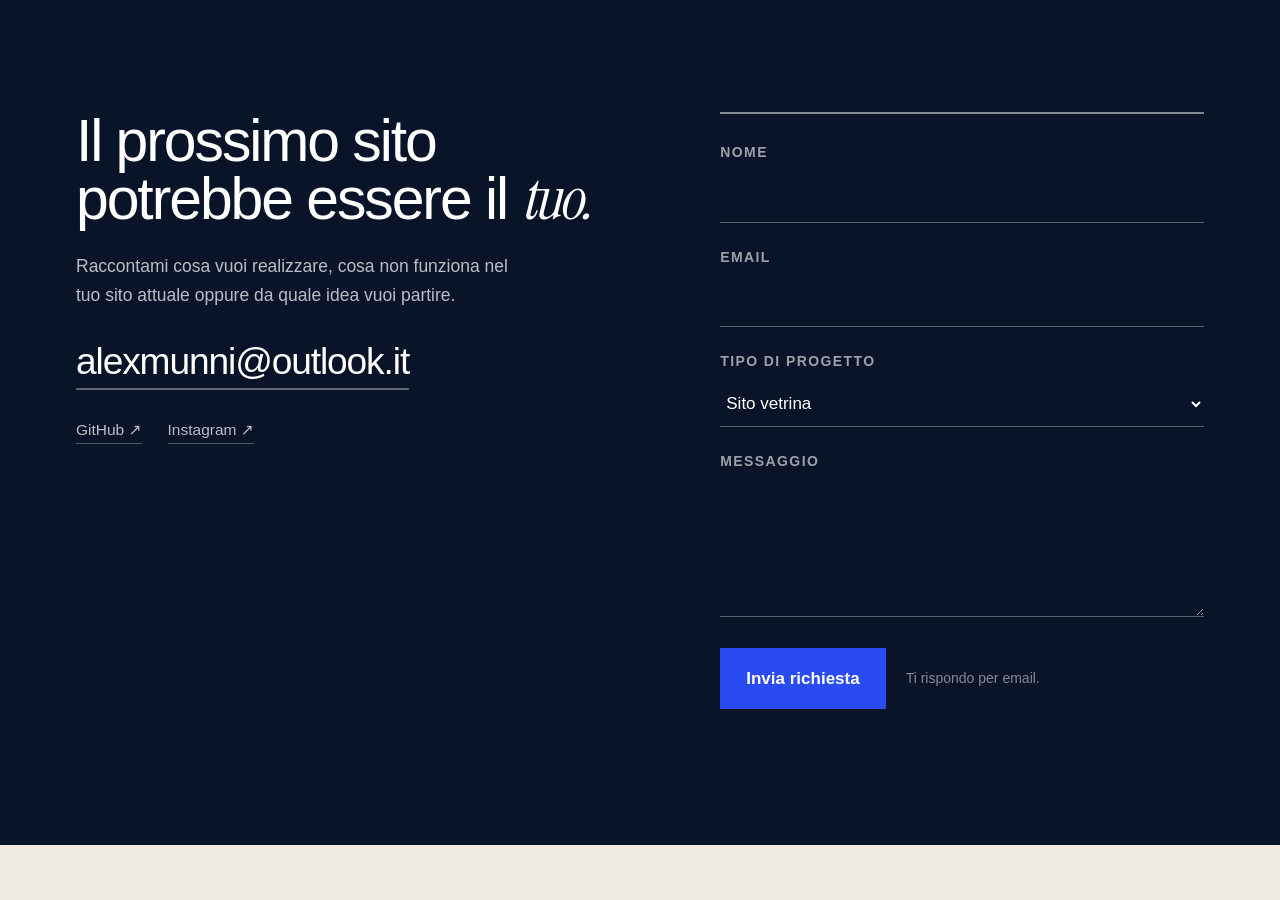
Contact › shows a success message after a successful submission
In the field labelled "Nome": (962, 197) [720,172,1204,222], type "Jane Doe"
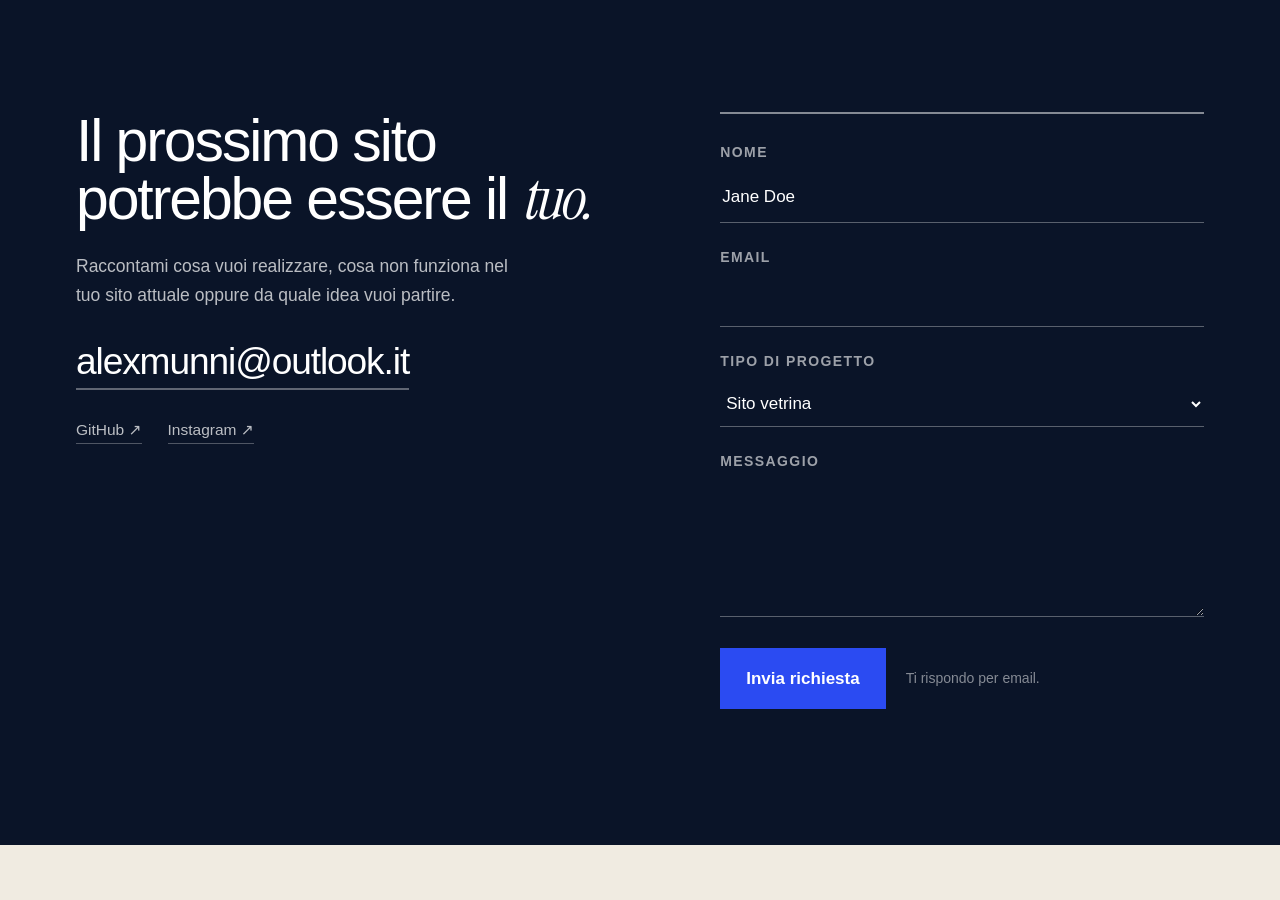
In the field labelled "Email": (962, 302) [720,276,1204,327], type "jane@example.com"
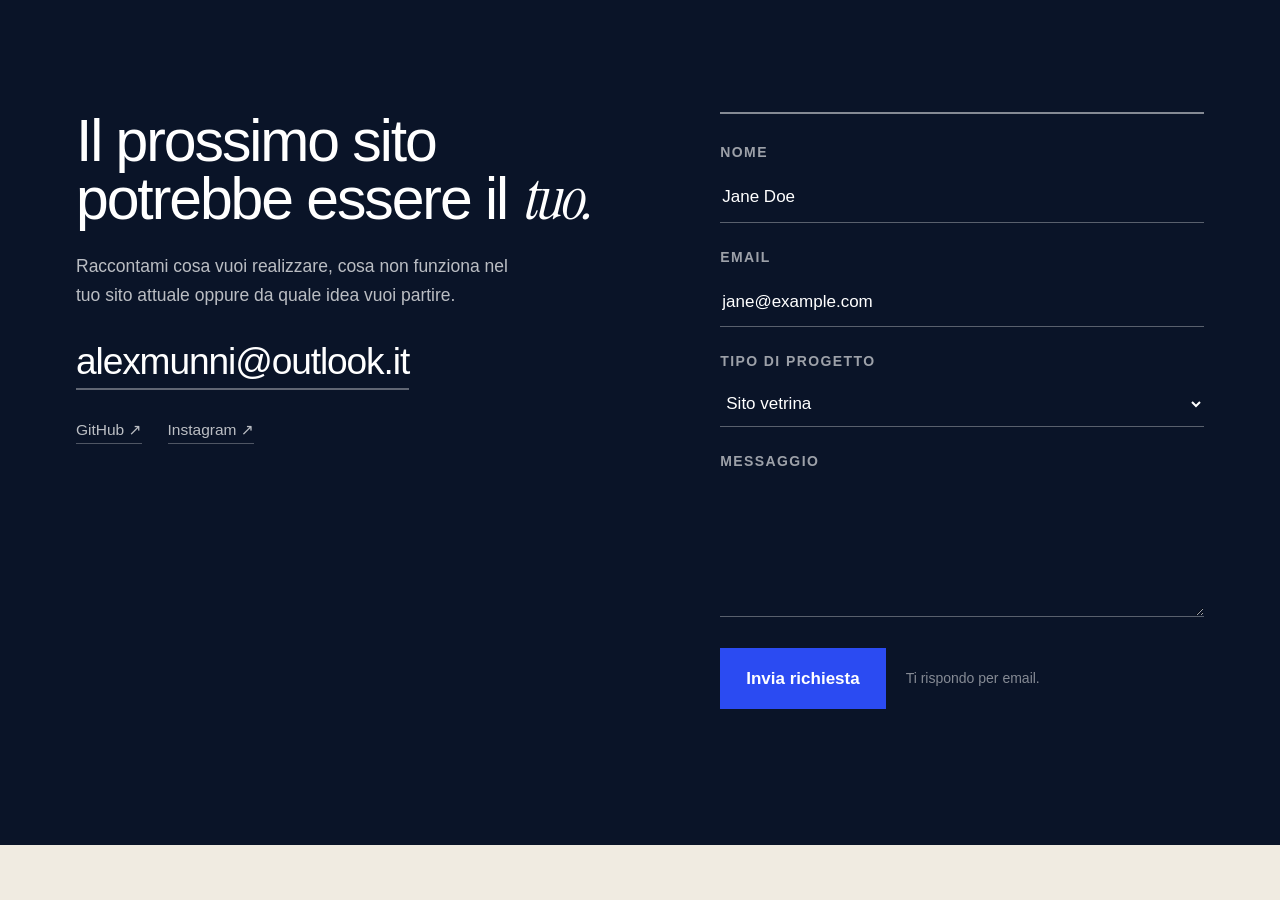
In the text box labelled "Messaggio": (962, 549) [720,481,1204,616], type "Hello there"
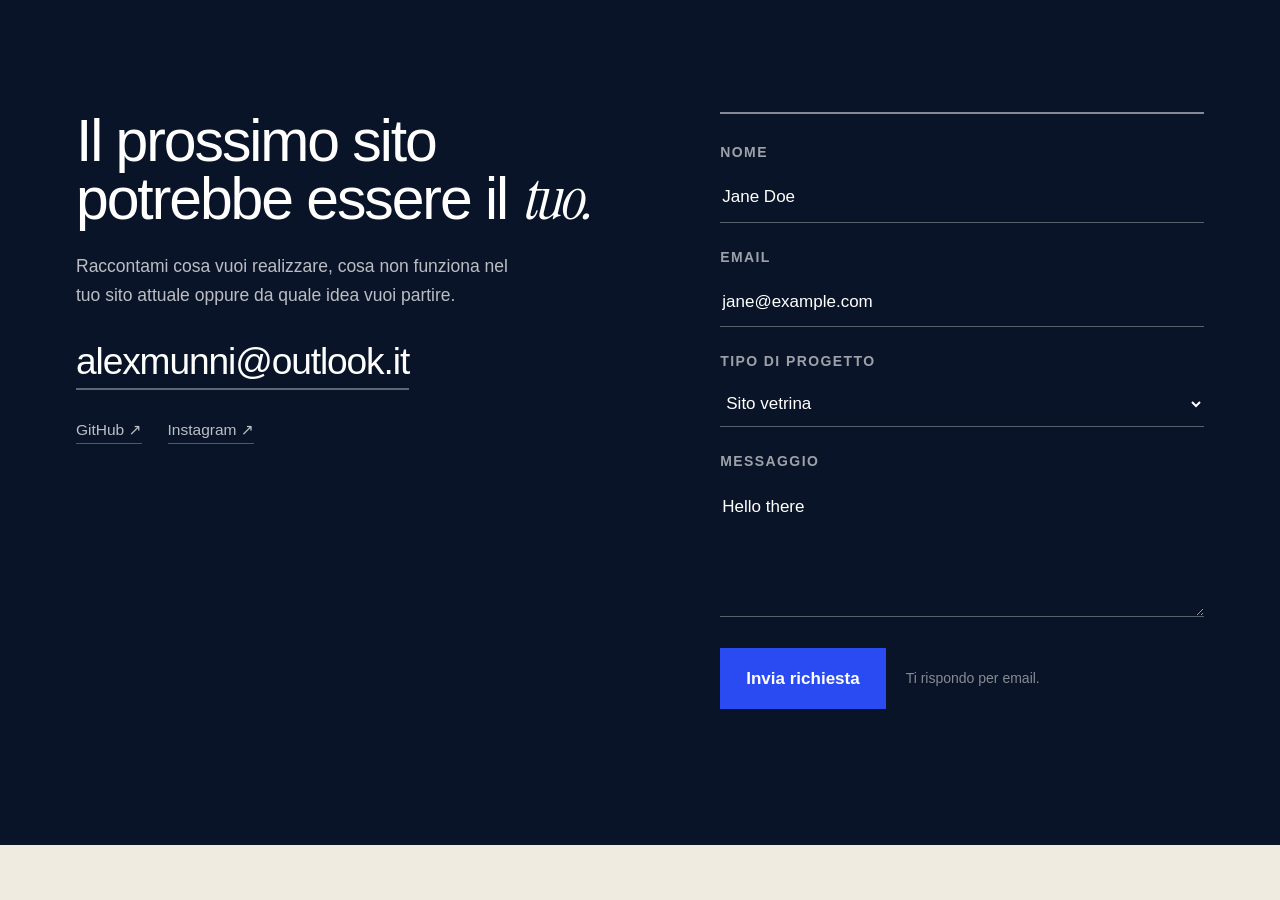
Click the button "Invia richiesta": (803, 678) [720,648,886,709]
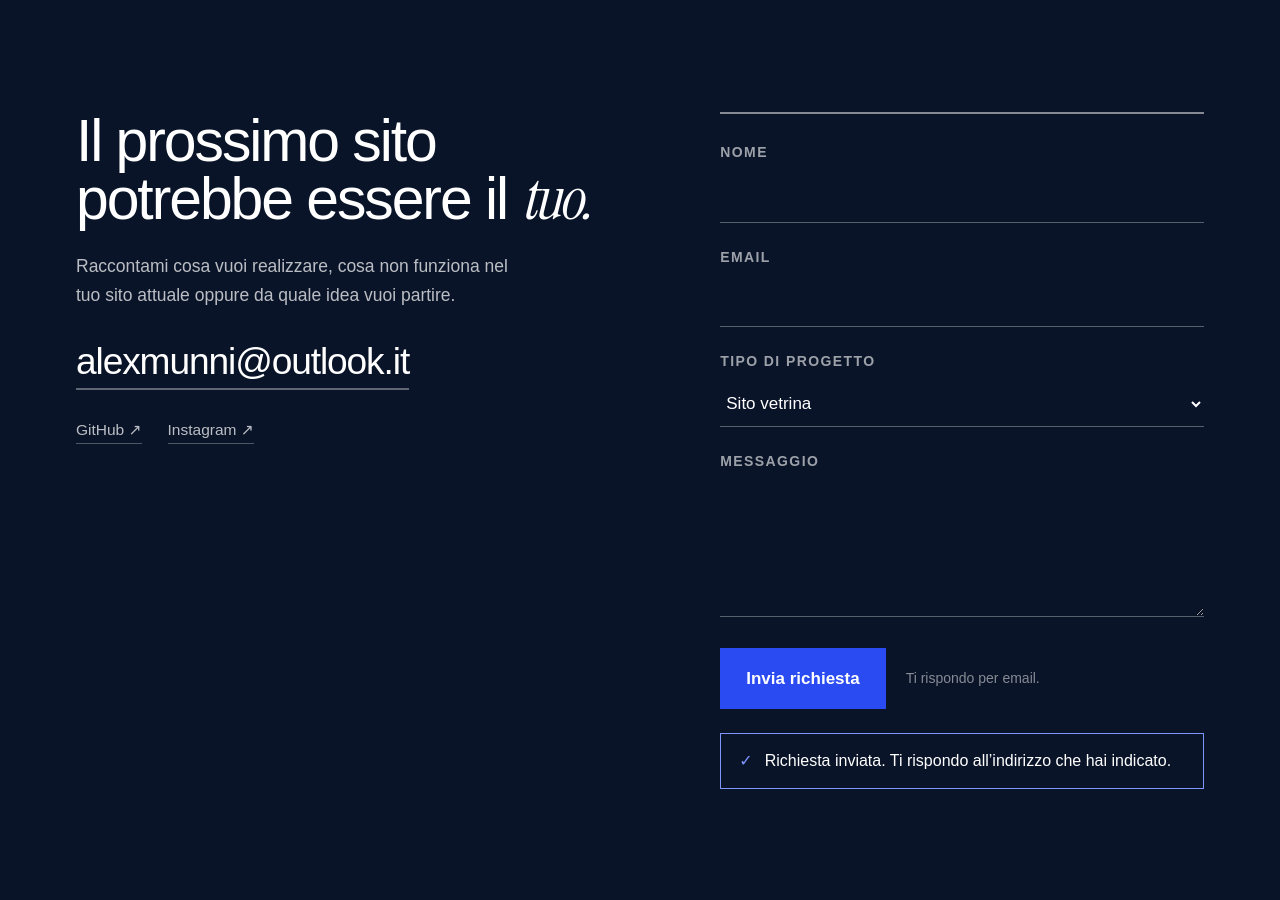
Check: the text "✓ Richiesta inviata. Ti rispondo all’indirizzo che hai indicato." is shown, box [720,733,1204,789]
